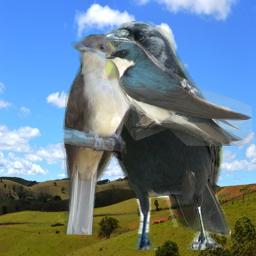Crow: (101, 21, 231, 250)
Cuckoo: (60, 34, 134, 235)
Swallow: (105, 41, 252, 146)
